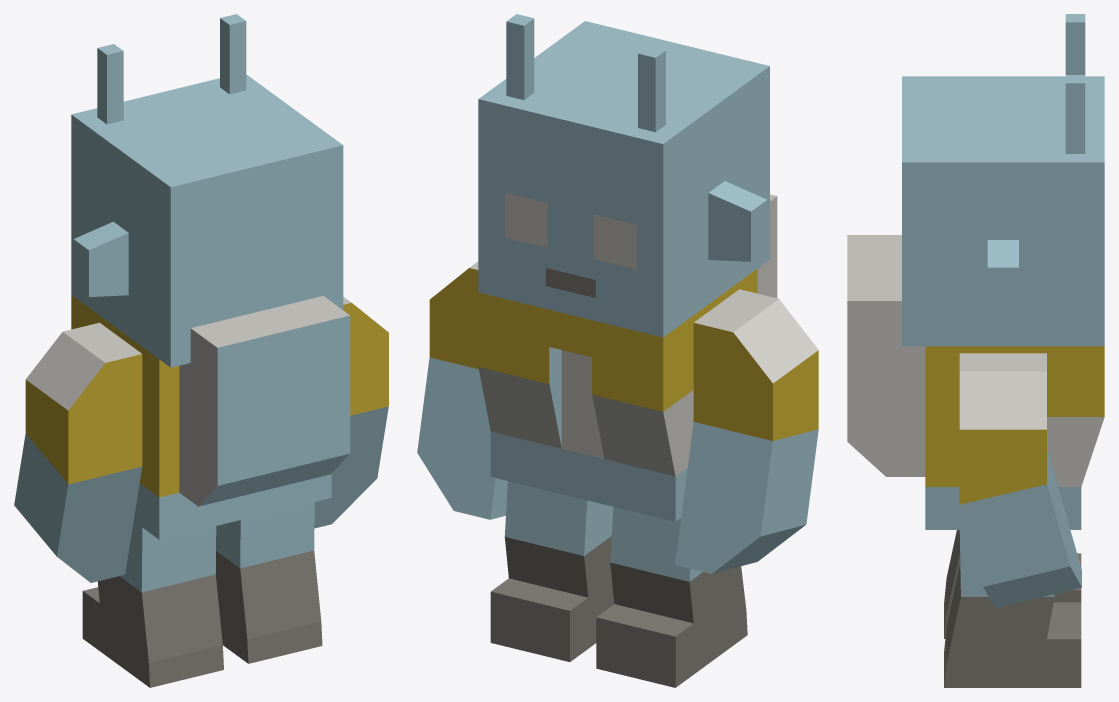
The model's file is cc0-alien-lod0.glb.
The picture shows the model from 3 angles, left to right: view 1: azimuth 30°, elevation 25°; view 2: azimuth 150°, elevation 25°; view 3: azimuth 270°, elevation 25°; orthographic projection. The views are drawn at different scales.
Parts seen in each view (by area): view 1: part_0; view 2: part_0; view 3: part_0.
Boxes of the visible parts, <box> form: part_0: <box>14,14,388,687</box>; part_0: <box>417,14,818,687</box>; part_0: <box>847,14,1104,687</box>.
Bounding box in the file's own units: 0.4832 × 0.8432 × 0.33.
